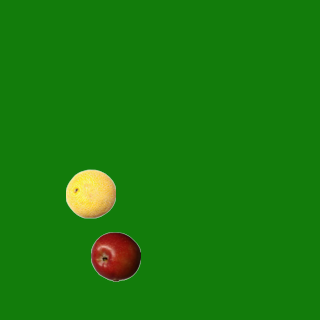Apple Braeburn: (90, 231, 140, 281)
Cantaloupe 1: (65, 168, 115, 218)
